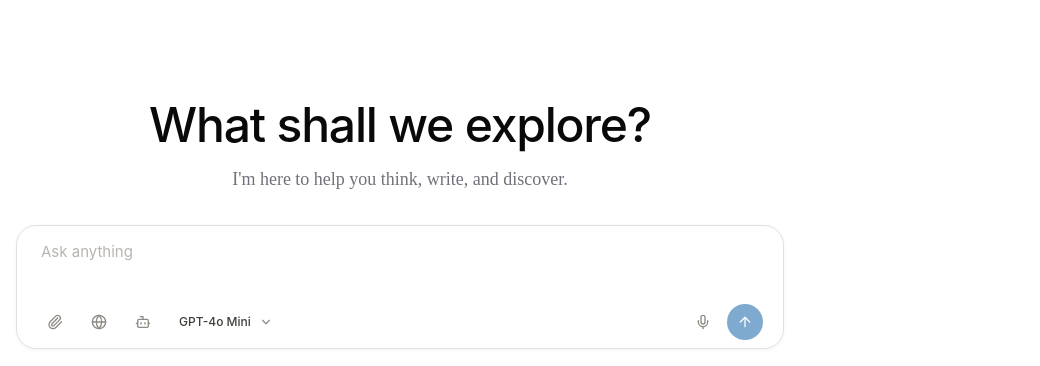
Scenario: ChatWorkspace › shows the provider-capacity error when sendMessage fails fast
The image size is (1040, 366).
Type "Need a response" into the text box named "Message". click: (400, 269)
box: [37,240,763,298]
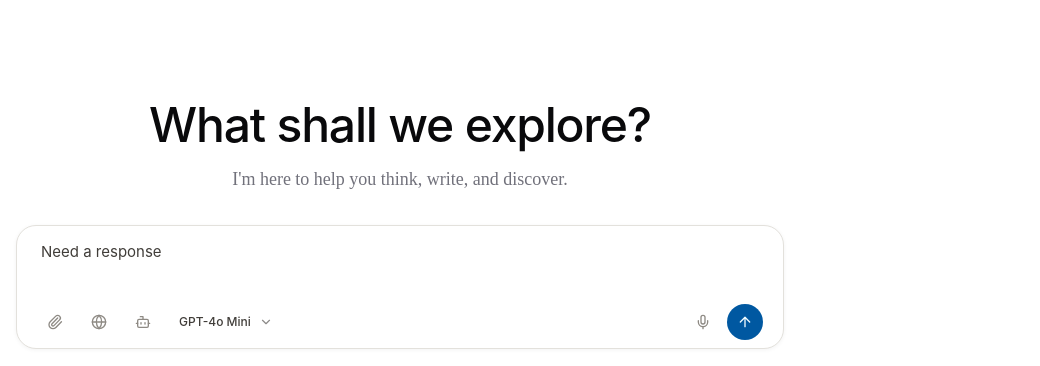
Click the button named "Send message". click: (745, 322)
box: [727,304,763,340]
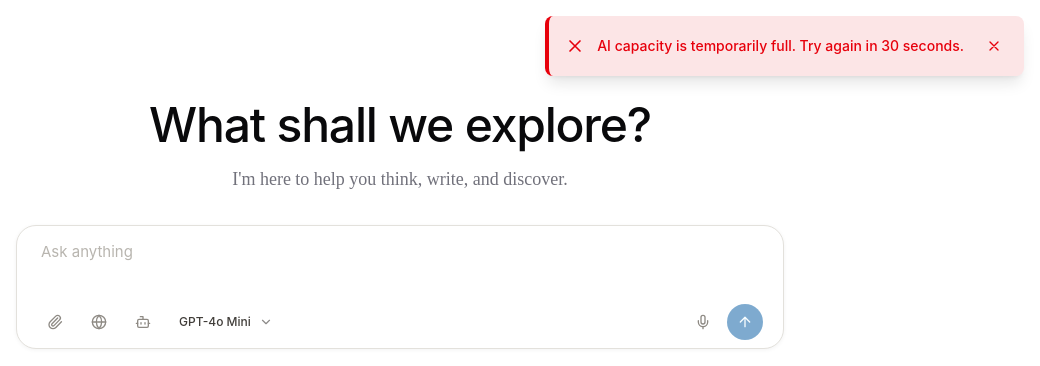
Expected: the text "AI capacity is temporarily full. Try again in 30 seconds." is shown, [597,36,964,56]
